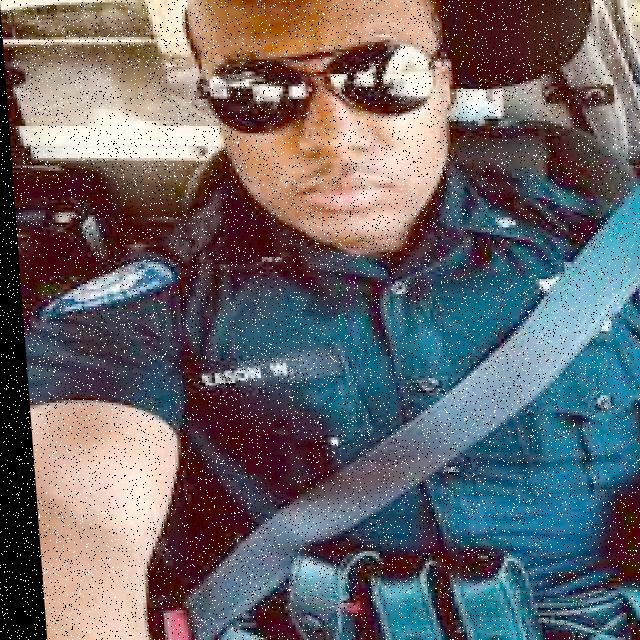seatbelt: (156, 242, 640, 550)
